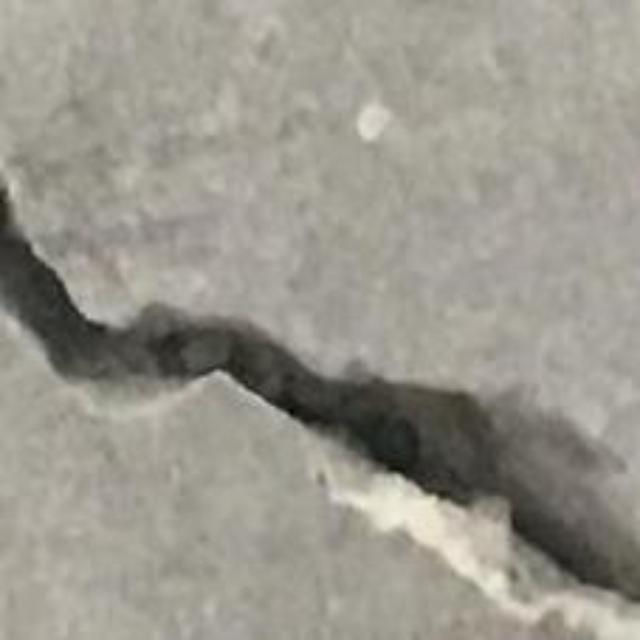crack: (0, 181, 639, 620)
